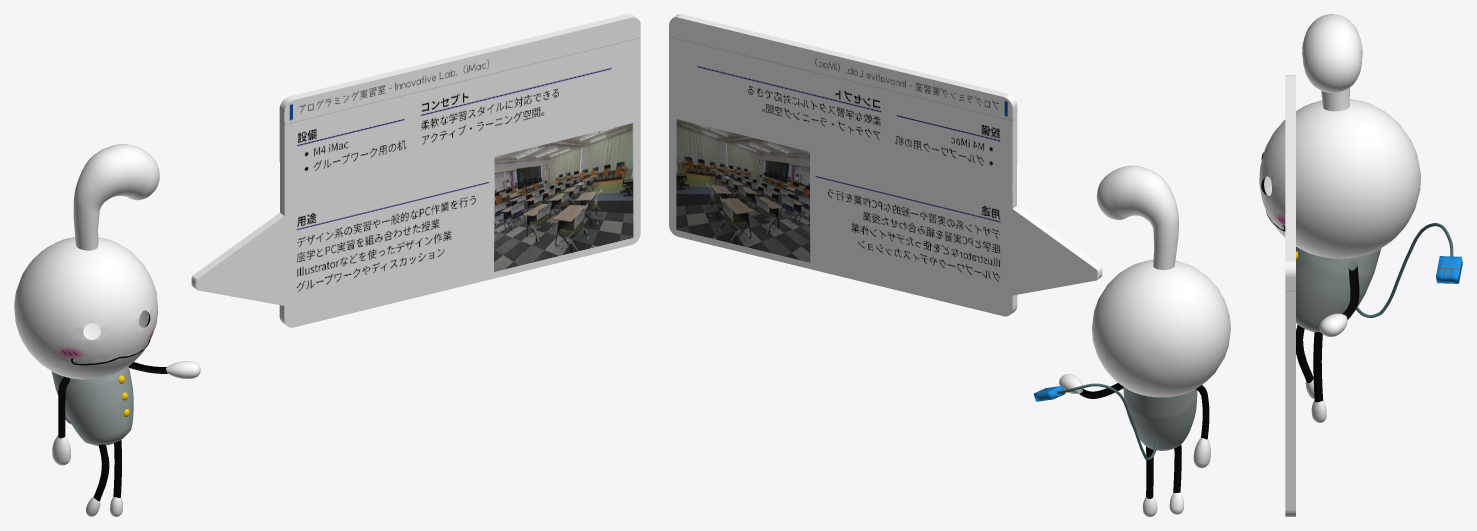
File: innovative_2.glb
3 views of the same model, side by side, from view 1: azimuth 30°, elevation 25°; view 2: azimuth 150°, elevation 25°; view 3: azimuth 270°, elevation 25° (orthographic). The views are drawn at different scales.
Parts seen in each view (by area): view 1: 吹き出し（画像）, 頭, 吹き出し（角）, 触覚, 胴; view 2: 吹き出し（画像）, 頭, 吹き出し（角）, 触覚, 胴; view 3: 頭, 吹き出し（画像）, 触覚, 胴, マウス, 尻尾, 左脚, 左拳, 右脚, 左腕, 左足.
Part boxes in pixels (<box>): 吹き出し（画像）: <box>279,14,640,327</box>; 頭: <box>14,237,158,379</box>; 吹き出し（角）: <box>191,213,284,305</box>; 触覚: <box>73,144,159,250</box>; 胴: <box>51,366,133,445</box>; 吹き出し（画像）: <box>669,14,1017,316</box>; 頭: <box>1092,259,1230,397</box>; 吹き出し（角）: <box>1012,205,1102,295</box>; 触覚: <box>1096,165,1178,269</box>; 胴: <box>1123,387,1197,450</box>; 頭: <box>1259,99,1420,258</box>; 吹き出し（画像）: <box>1285,75,1295,516</box>; 触覚: <box>1302,14,1362,111</box>; 胴: <box>1296,247,1380,332</box>; マウス: <box>1436,256,1462,283</box>; 尻尾: <box>1356,223,1453,317</box>; 左脚: <box>1313,332,1323,402</box>; 左拳: <box>1319,313,1347,336</box>; 右脚: <box>1296,325,1313,382</box>; 左腕: <box>1342,266,1359,319</box>; 左足: <box>1311,400,1326,422</box>.
Bounding box in the file's own units: 24.01 × 15.01 × 6.36.
13 materials, 2 textured.
